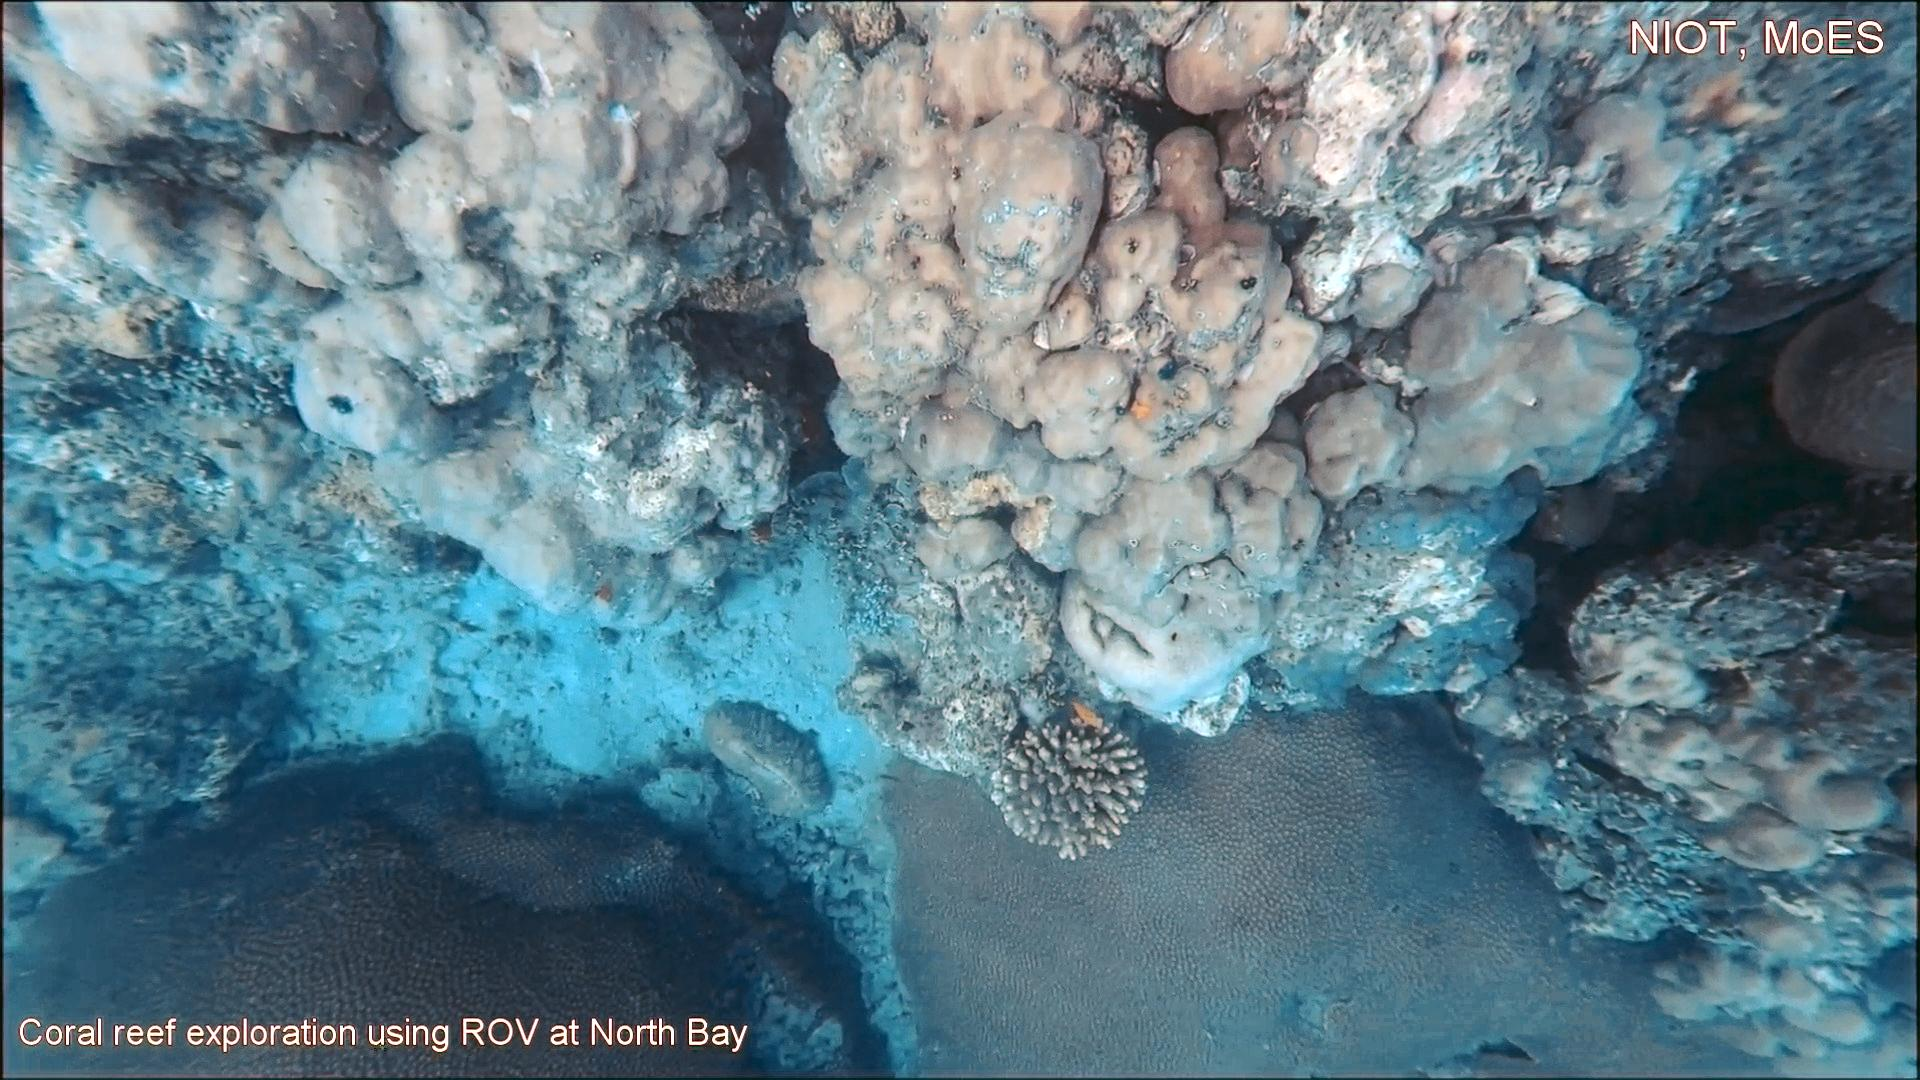Meandrina meandrites: (1762, 256, 1920, 489)
